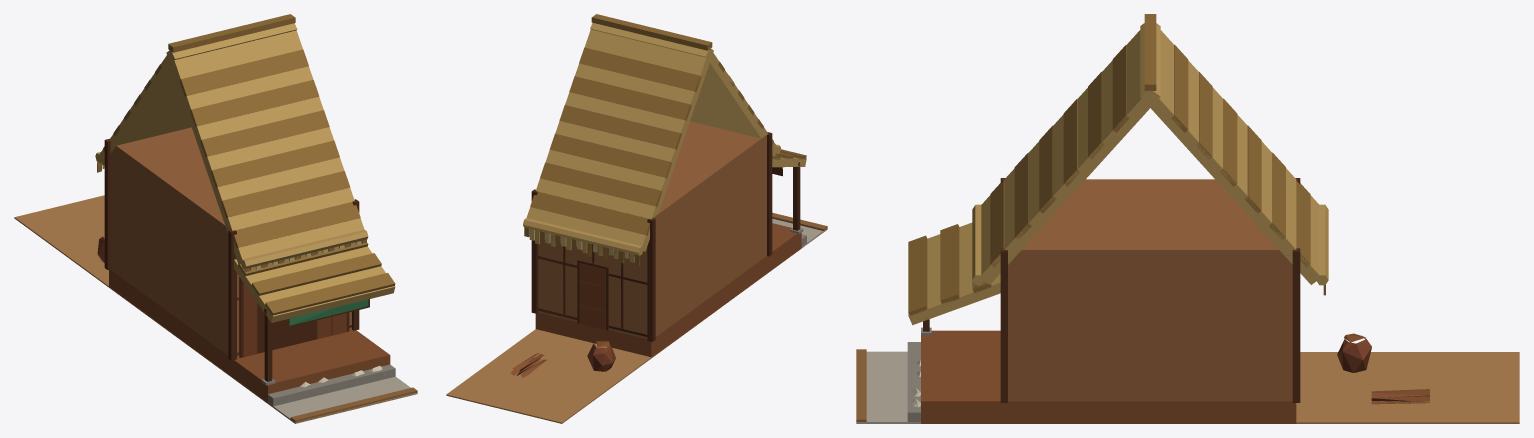
Rendered from bay2_mid2.glb.
The picture shows the model from 3 angles, left to right: view 1: azimuth 30°, elevation 25°; view 2: azimuth 150°, elevation 25°; view 3: azimuth 270°, elevation 25°; orthographic projection. The views are drawn at different scales.
Parts seen in each view (by area): view 1: body; view 2: body; view 3: body.
Boxes of the visible parts, left/top/right/bottom form: body: left=14, top=14, right=417, bottom=423; body: left=446, top=14, right=827, bottom=423; body: left=856, top=14, right=1519, bottom=423.
Size of the model in its own units: 4.18 by 8.98 by 15.9.
